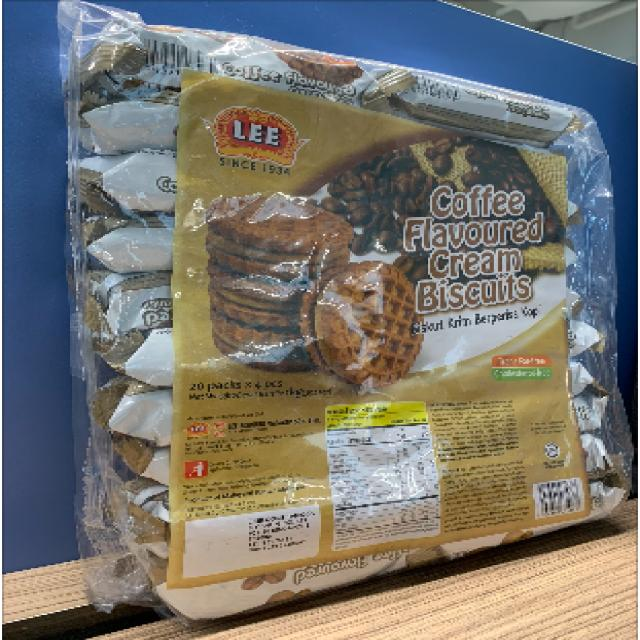object_name: (104, 58, 607, 531)
